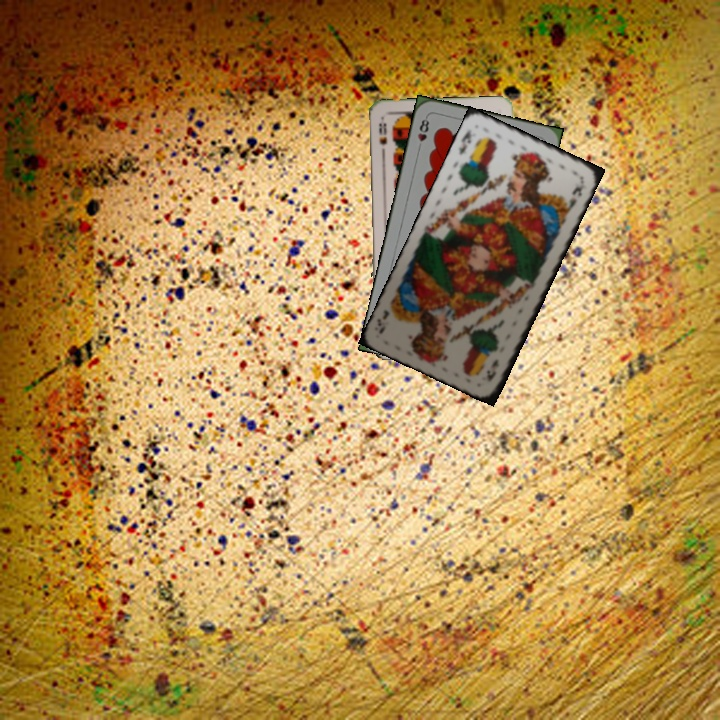EK: (454, 125, 474, 157), (482, 355, 501, 384)
H8: (414, 113, 432, 153)
S8: (374, 114, 389, 148)
